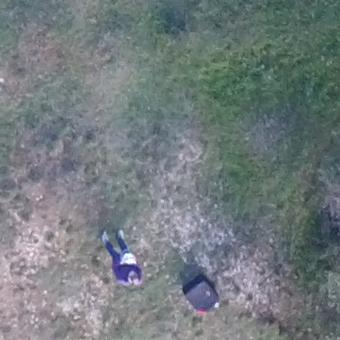human: (101, 229, 144, 287)
